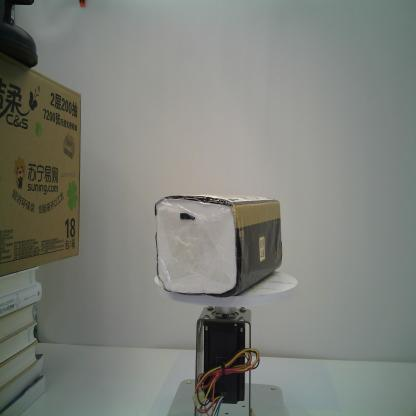Tissue: (152, 191, 286, 298)
